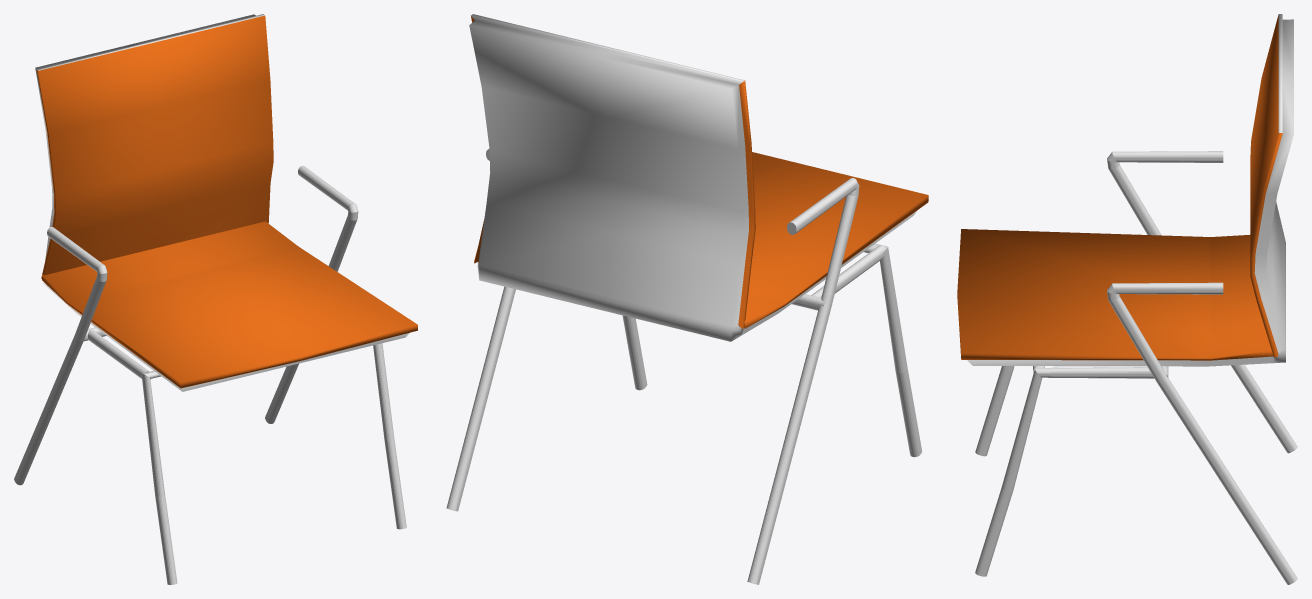
Rendered from orange_chair_.fbx.
3 views of the same model, side by side, from view 1: azimuth 30°, elevation 25°; view 2: azimuth 150°, elevation 25°; view 3: azimuth 270°, elevation 25° (orthographic). The views are drawn at different scales.
Visible parts, largest first — view 1: Cube; view 2: Cube; view 3: Cube.
Part boxes in pixels (x1=…): Cube: x1=14, y1=14, x2=417, y2=584; Cube: x1=446, y1=14, x2=928, y2=584; Cube: x1=957, y1=14, x2=1297, y2=584.
Size of the model in its own units: 263 by 402 by 278.
